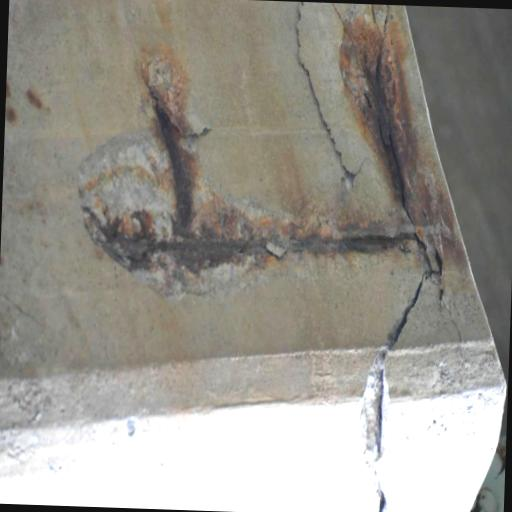spalling: (75, 17, 449, 301), (349, 277, 435, 510), (280, 6, 361, 193)
